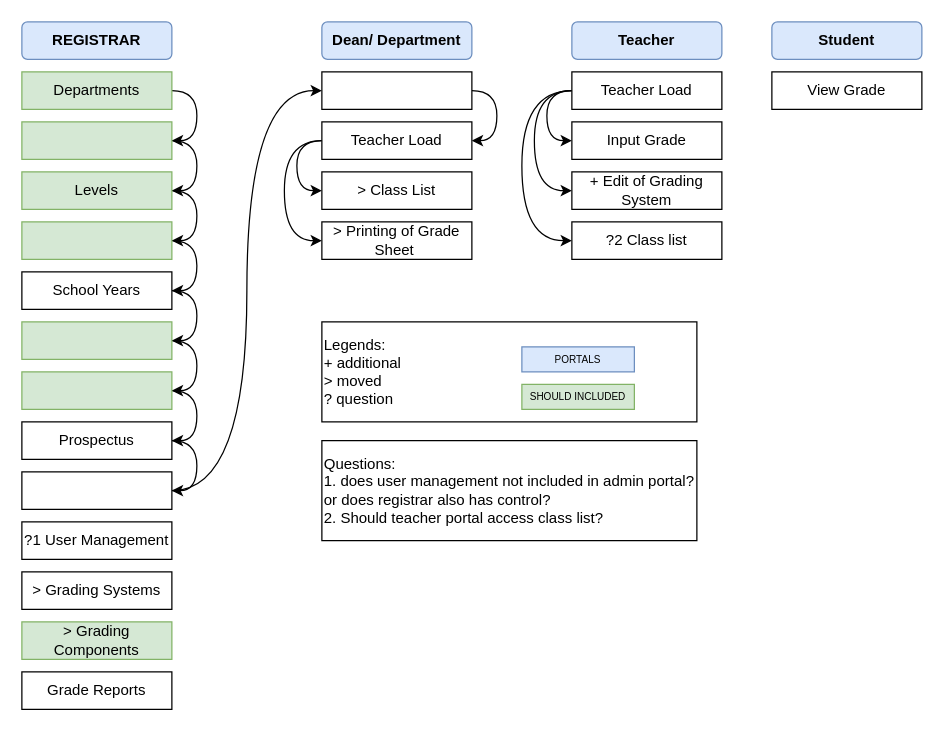
The diagram is 944 pixels wide and 731 high, and some of its shapes have lost their labels. The shapes that lost their labels are listed below. From the top down, each one's centre as x and y in pixels, then its label:
the point at 396,90: Enlistment
the point at 96,140: Programs
the point at 96,240: Curricula
the point at 96,340: Academic Terms
the point at 96,390: Subject
the point at 96,490: > Subject Offerings
